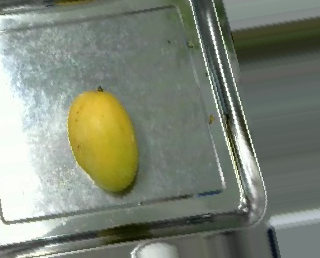Mango: (68, 90, 138, 191)
